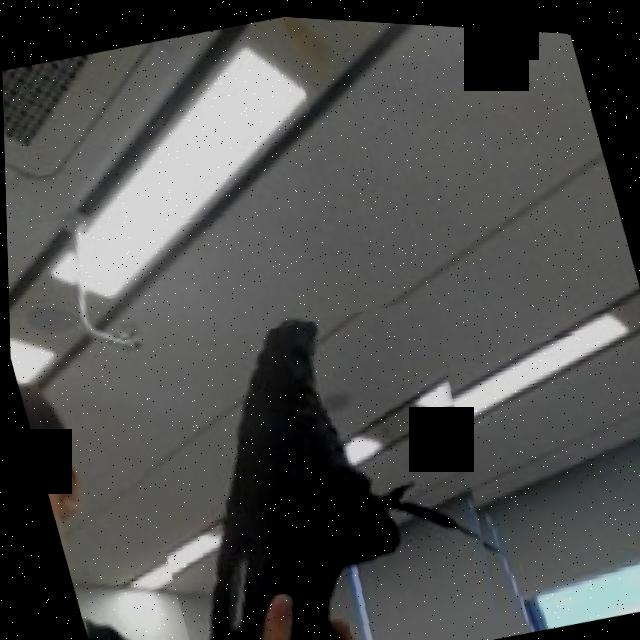shoe: (108, 277, 521, 640)
